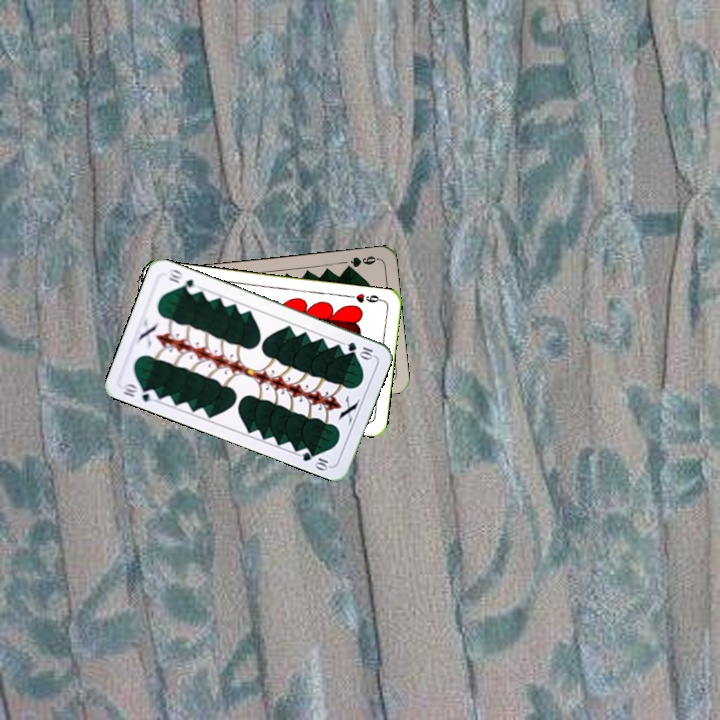G10: (118, 379, 160, 405), (343, 338, 376, 361)
G9: (341, 252, 381, 273)
H9: (345, 289, 386, 305)
